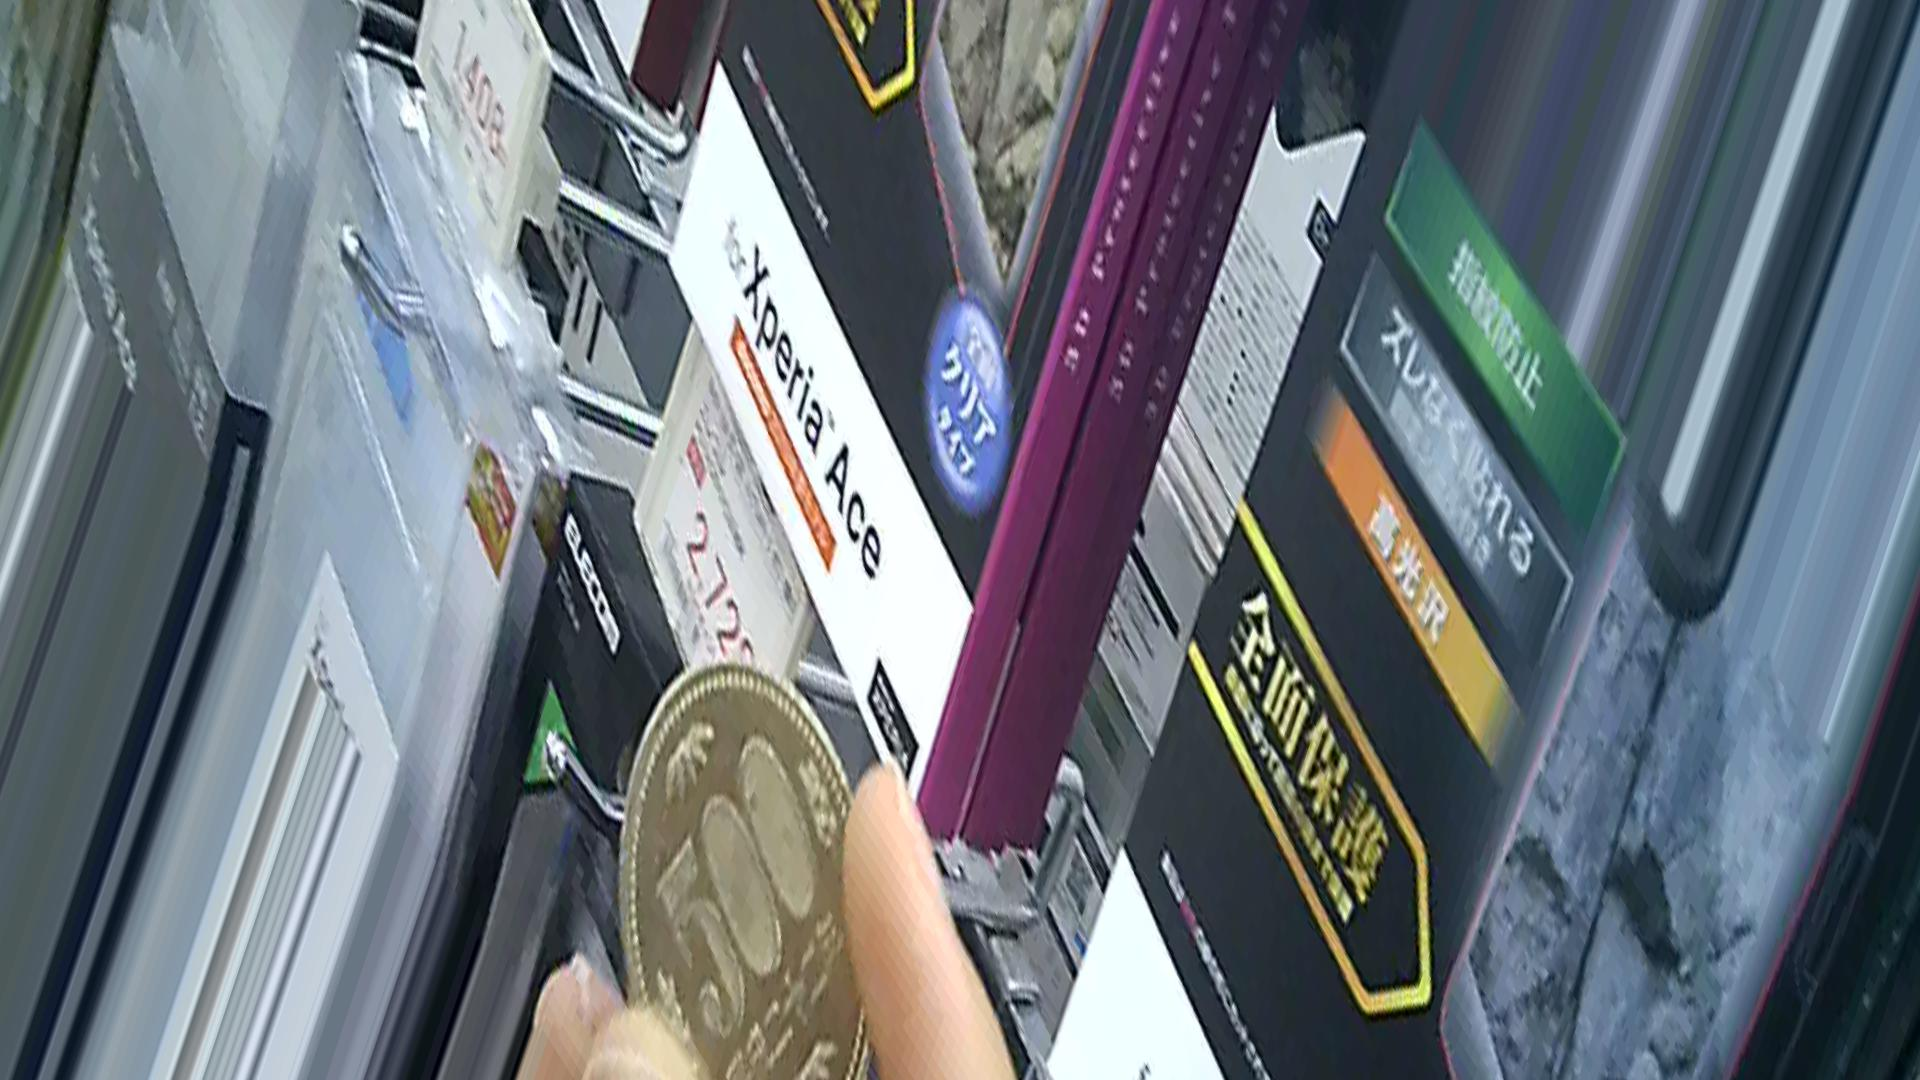500 Yen: (611, 661, 881, 1079)
